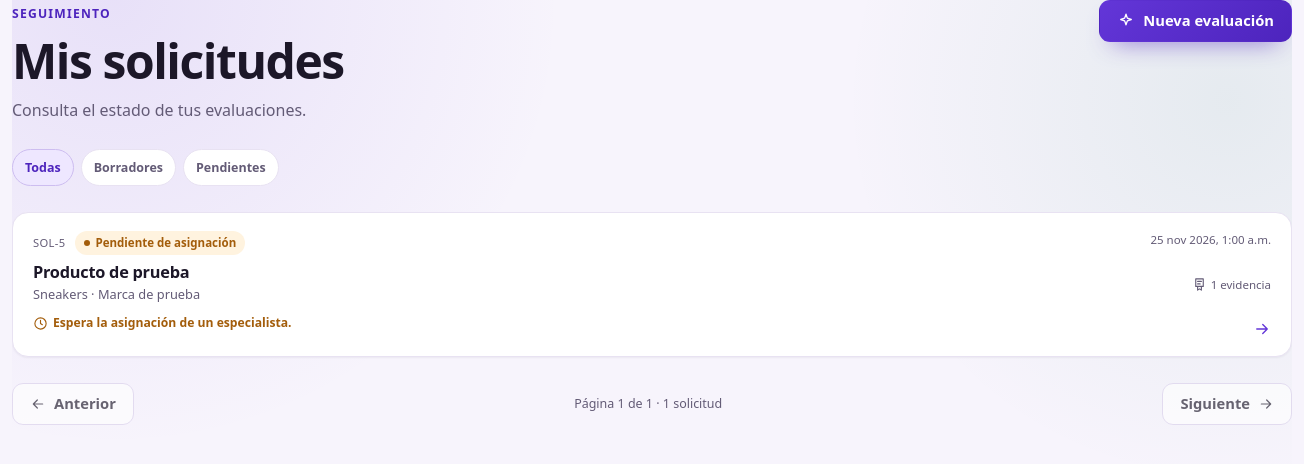
Scenario: MyRequestsPage › filtra y muestra el estado vacío correspondiente
The image size is (1304, 464).
Expected: the text "SOL-5" is shown, [33,234,65,252]
Click the button "Borradores": [128, 167] box [81,149,176,186]
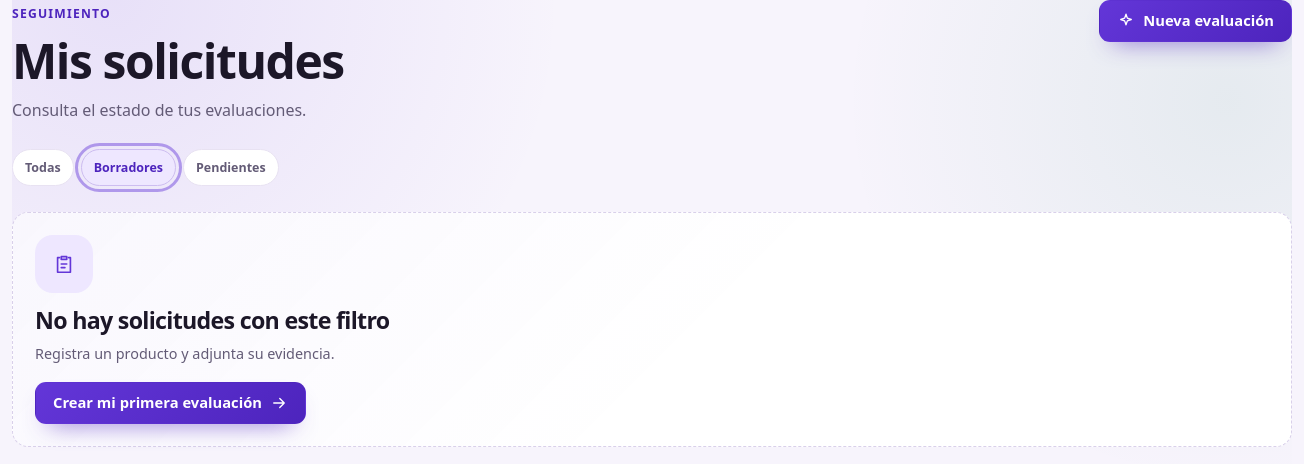
Result: the heading "No hay solicitudes con este filtro" is shown at [35,307,389,333]
